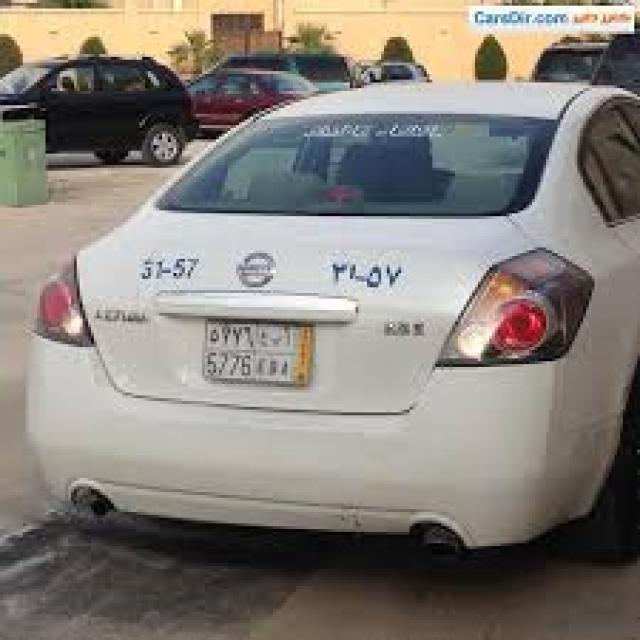license_plate: (202, 318, 319, 389)
